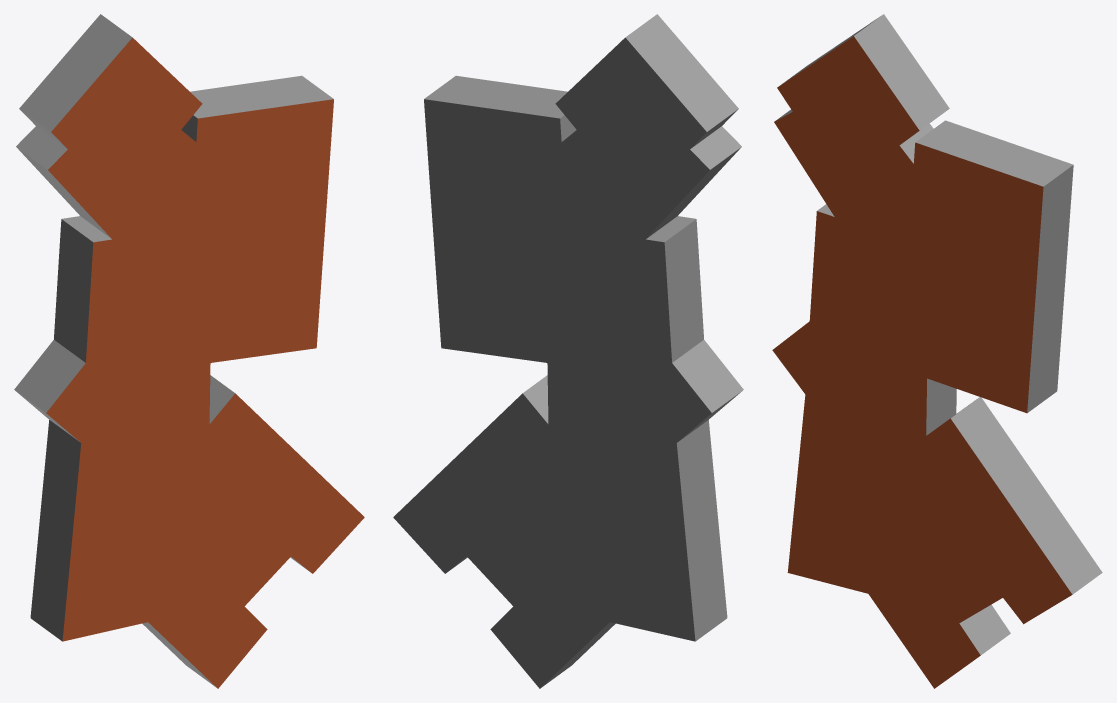
Rendered from construction_3128_assumed_A_Camara_municipal_h6m.obj.
3 views of the same model, side by side, from view 1: azimuth 30°, elevation 25°; view 2: azimuth 150°, elevation 25°; view 3: azimuth 330°, elevation 25° (orthographic). The views are drawn at different scales.
Parts seen in each view (by area): view 1: construction_3128_assumed_A_Camara_municipal; view 2: construction_3128_assumed_A_Camara_municipal; view 3: construction_3128_assumed_A_Camara_municipal.
Part boxes in pixels (box(x1,y1,x2,y2)): construction_3128_assumed_A_Camara_municipal: box(14, 14, 364, 688); construction_3128_assumed_A_Camara_municipal: box(393, 14, 743, 688); construction_3128_assumed_A_Camara_municipal: box(772, 14, 1102, 688).
Size of the model in its own units: 34.5 by 69.52 by 6.
